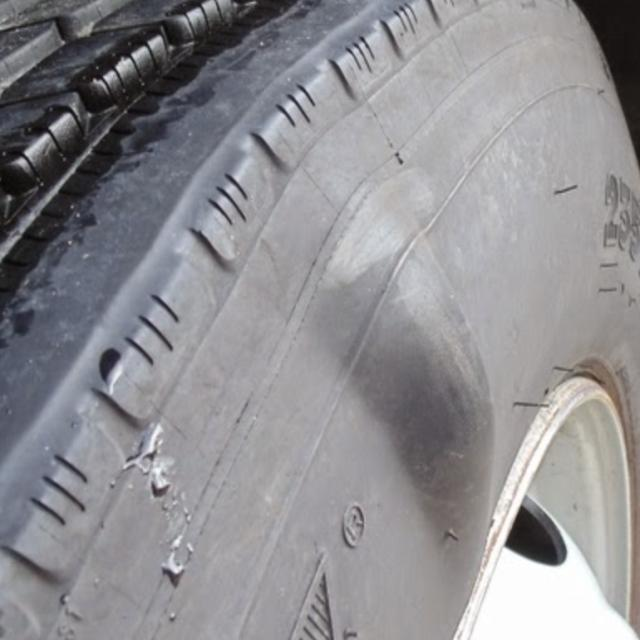Bulge: (306, 169, 503, 604)
